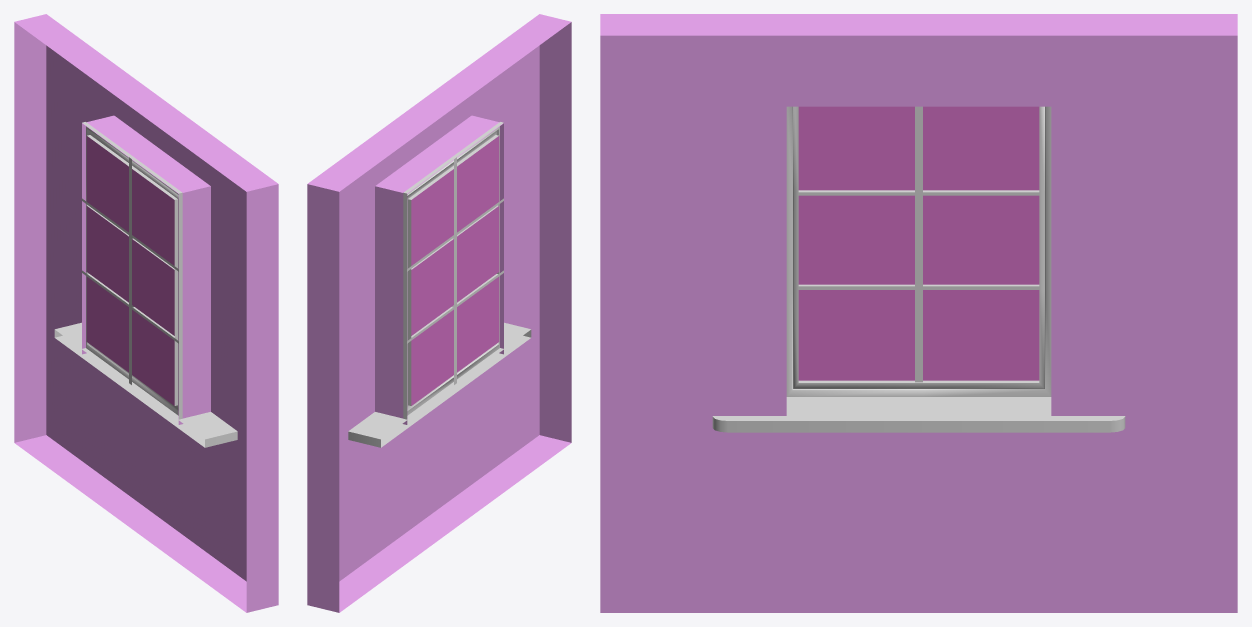
The model's file is window_nocourtines.fbx.
3 renders of one model, left to right at view 1: azimuth 30°, elevation 25°; view 2: azimuth 150°, elevation 25°; view 3: azimuth 270°, elevation 25°, orthographic. The views are drawn at different scales.
Visible parts, largest first — view 1: Plane; view 2: Plane; view 3: Plane.
Part boxes in pixels (<box>): Plane: <box>14,14,278,612</box>; Plane: <box>307,14,571,612</box>; Plane: <box>600,14,1237,612</box>.
Bounding box in the file's own units: 0.2517 × 2.5 × 2.5.
